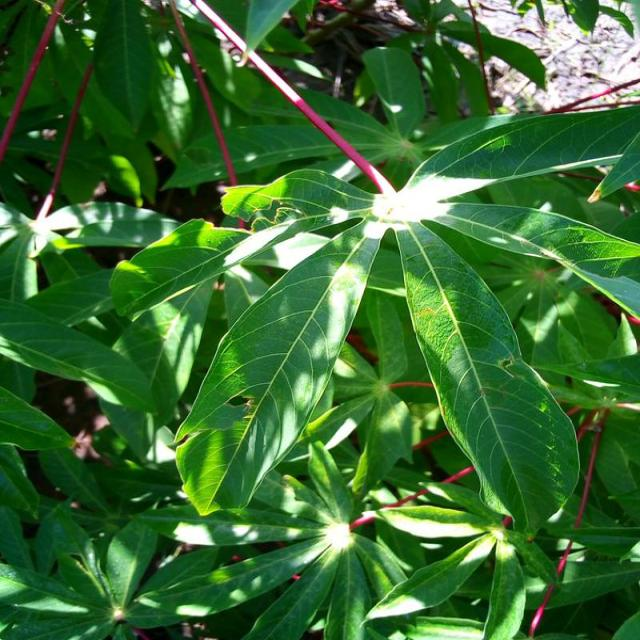cassava leaf: (172, 215, 383, 518), (393, 218, 581, 538)
